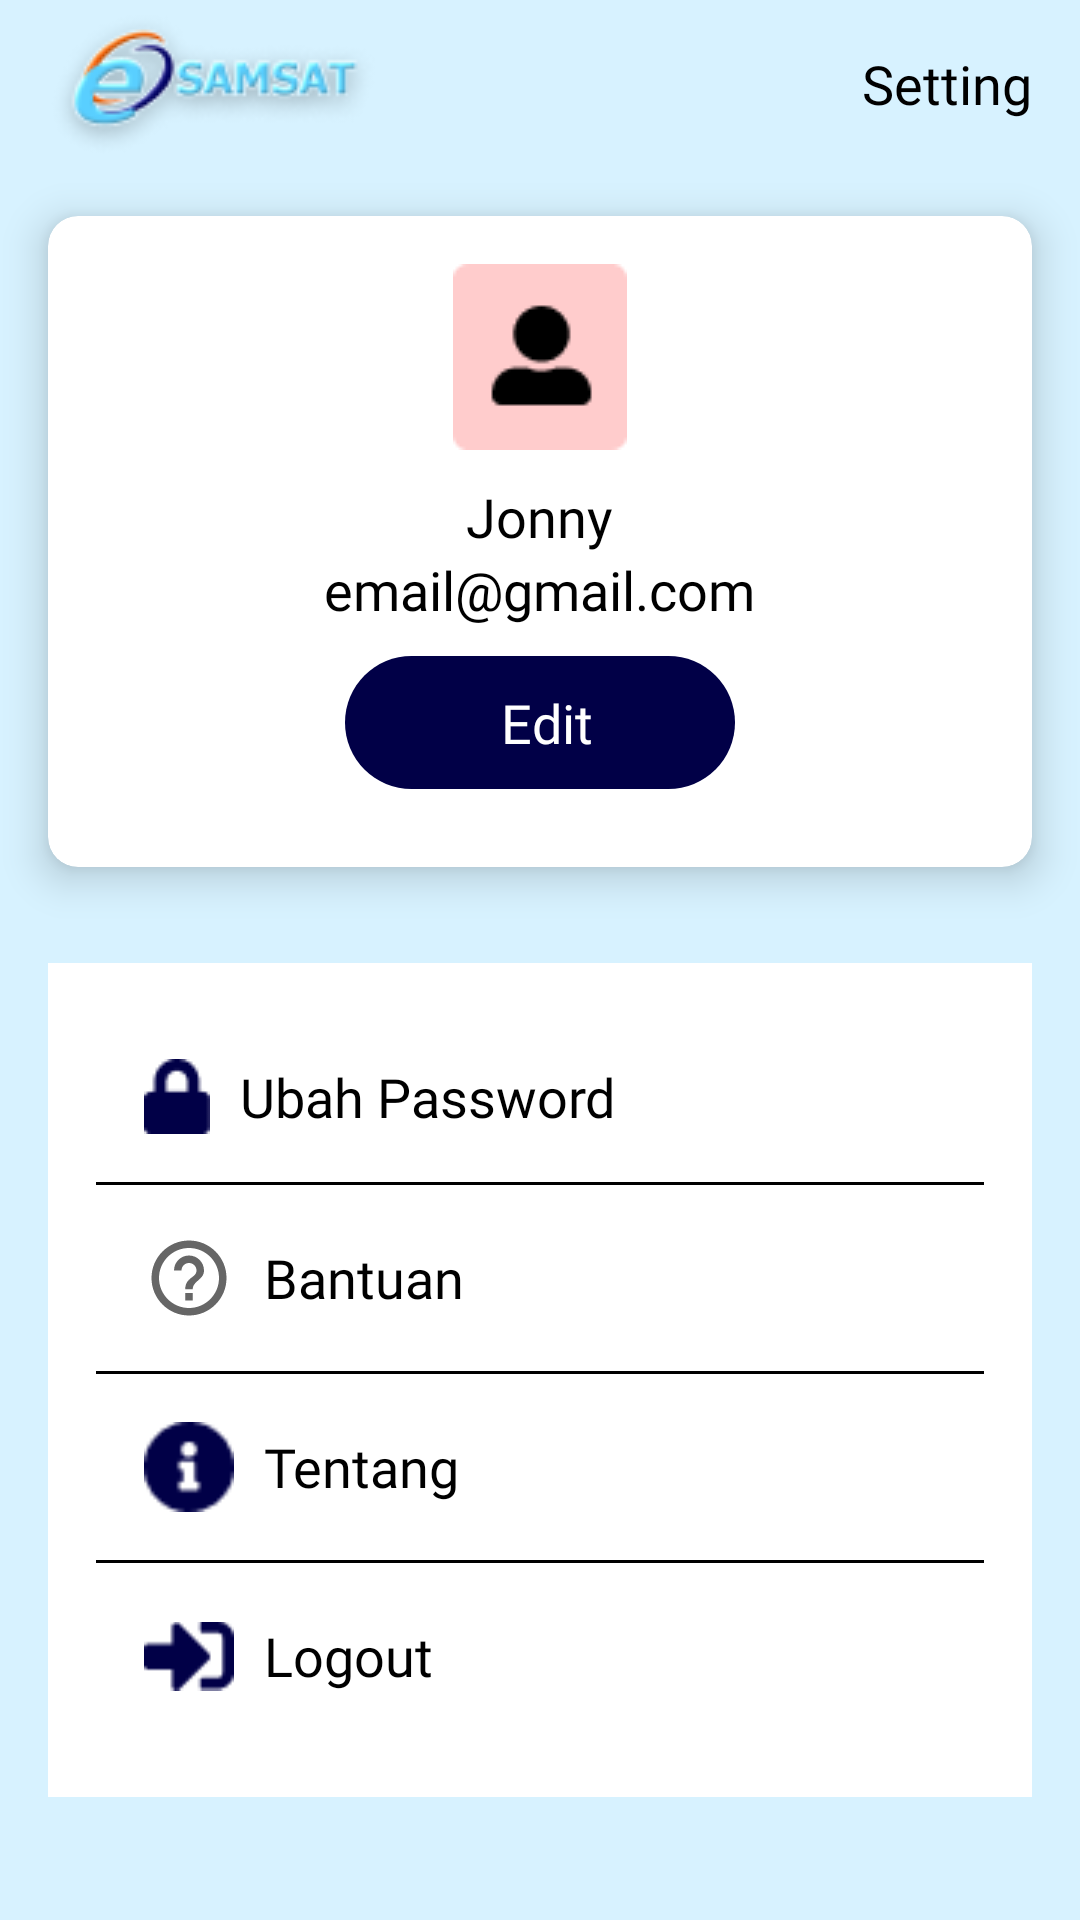

Screen size 1080×1920. Icon name, then its center in pixels as [x,y]:
help: [189,1278]
info: [189,1467]
lock: [177,1096]
